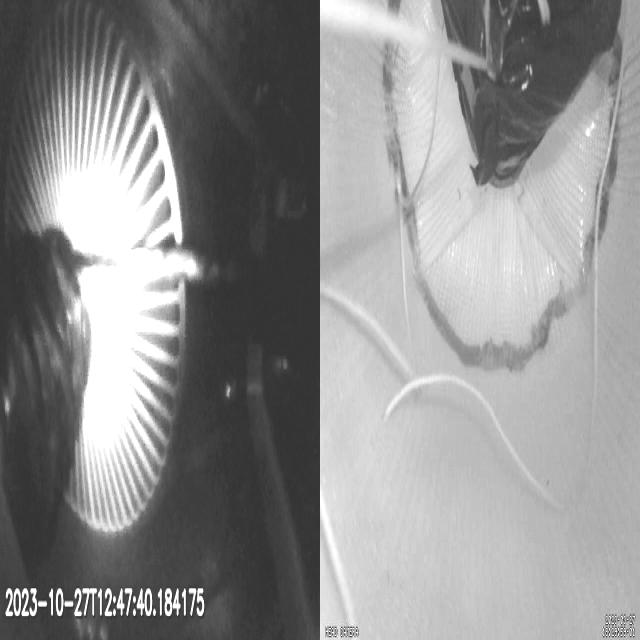red-circle: (382, 2, 623, 371)
